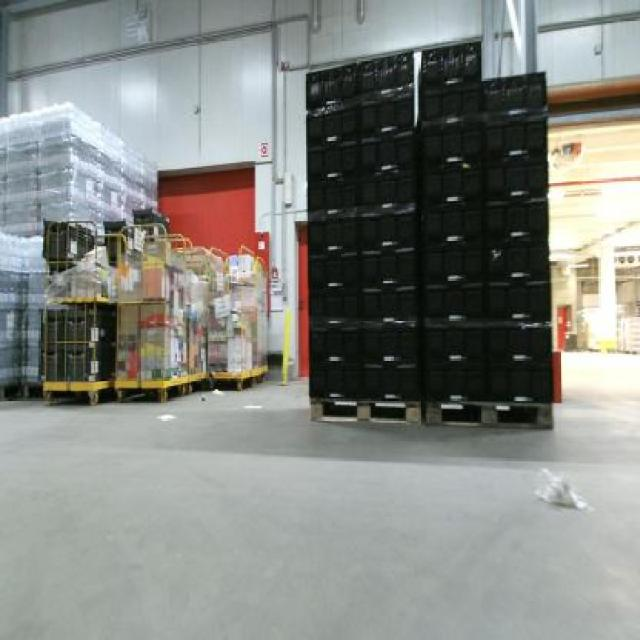pallet: (310, 386, 558, 436)
